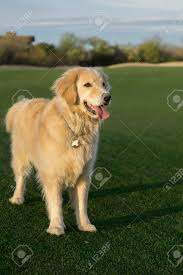Golden Retriever: (4, 58, 116, 233)
